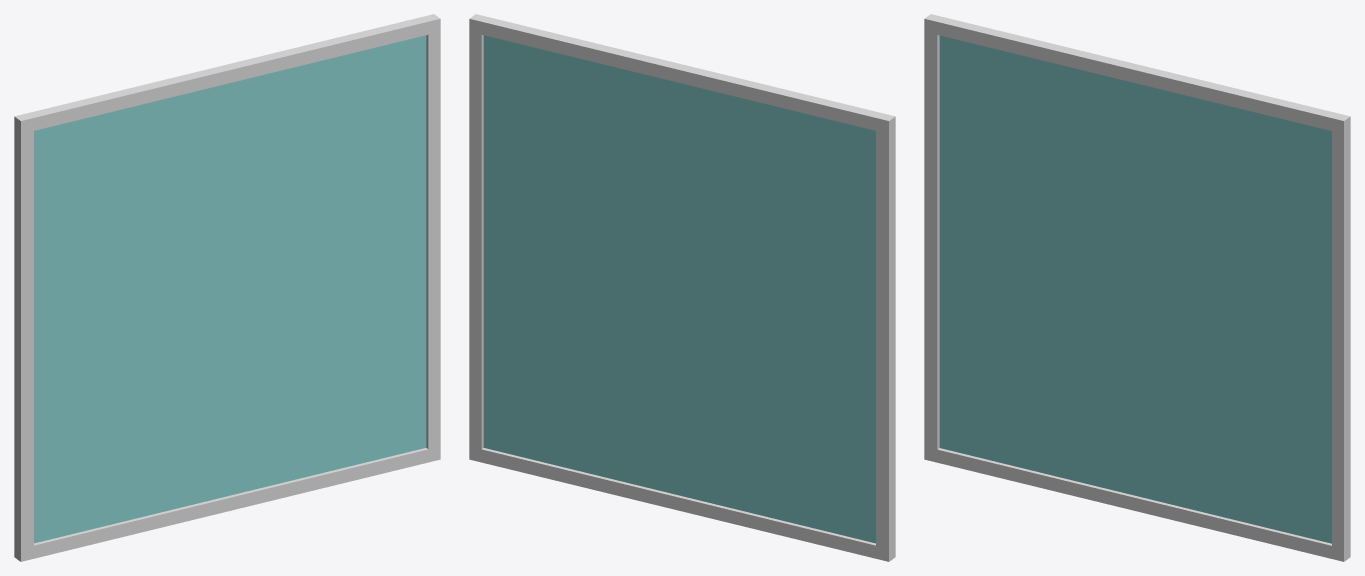
Rendered from WindowRight2.fbx.
3 views of the same model, side by side, from view 1: azimuth 30°, elevation 25°; view 2: azimuth 150°, elevation 25°; view 3: azimuth 330°, elevation 25° (orthographic).
Parts seen in each view (by area): view 1: Box020, WindowRight_002; view 2: Box020, WindowRight_002; view 3: Box020, WindowRight_002.
Boxes of the visible parts, left/top/right/bottom form: Box020: left=34, top=35, right=426, bottom=543; WindowRight_002: left=14, top=14, right=440, bottom=561; Box020: left=483, top=35, right=875, bottom=543; WindowRight_002: left=469, top=14, right=895, bottom=561; Box020: left=939, top=35, right=1331, bottom=543; WindowRight_002: left=924, top=14, right=1350, bottom=561.
Bounding box in the file's own units: 109 × 110 × 2.93.
